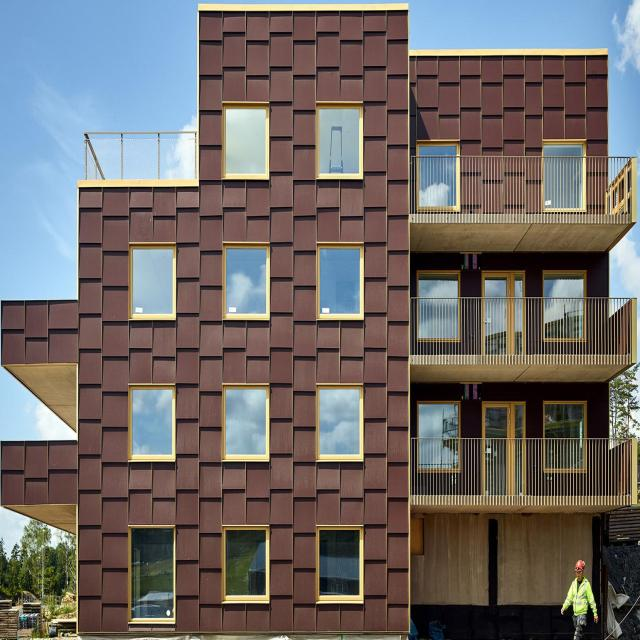railing: (411, 434, 633, 503), (412, 295, 636, 362), (410, 153, 636, 219), (85, 134, 198, 176)
window: (128, 529, 173, 623), (221, 527, 267, 601), (130, 384, 174, 460), (224, 385, 267, 460), (225, 247, 270, 318), (318, 247, 363, 317), (130, 245, 174, 316), (318, 389, 362, 459), (318, 108, 362, 176), (228, 104, 268, 178), (318, 530, 358, 595), (417, 401, 459, 436), (482, 403, 525, 437), (546, 403, 585, 435), (542, 276, 585, 297), (417, 276, 459, 296), (483, 273, 523, 293), (543, 140, 585, 156), (417, 144, 459, 154)
